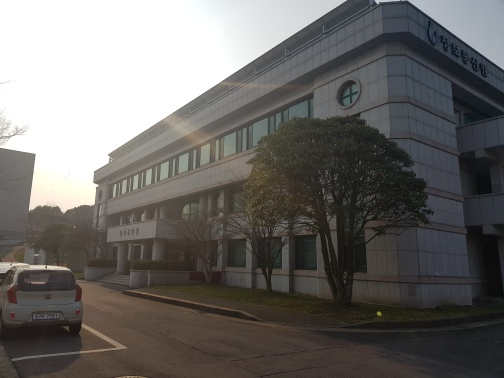Information Telecommunication Center: (87, 40, 499, 300), (425, 18, 494, 84)
